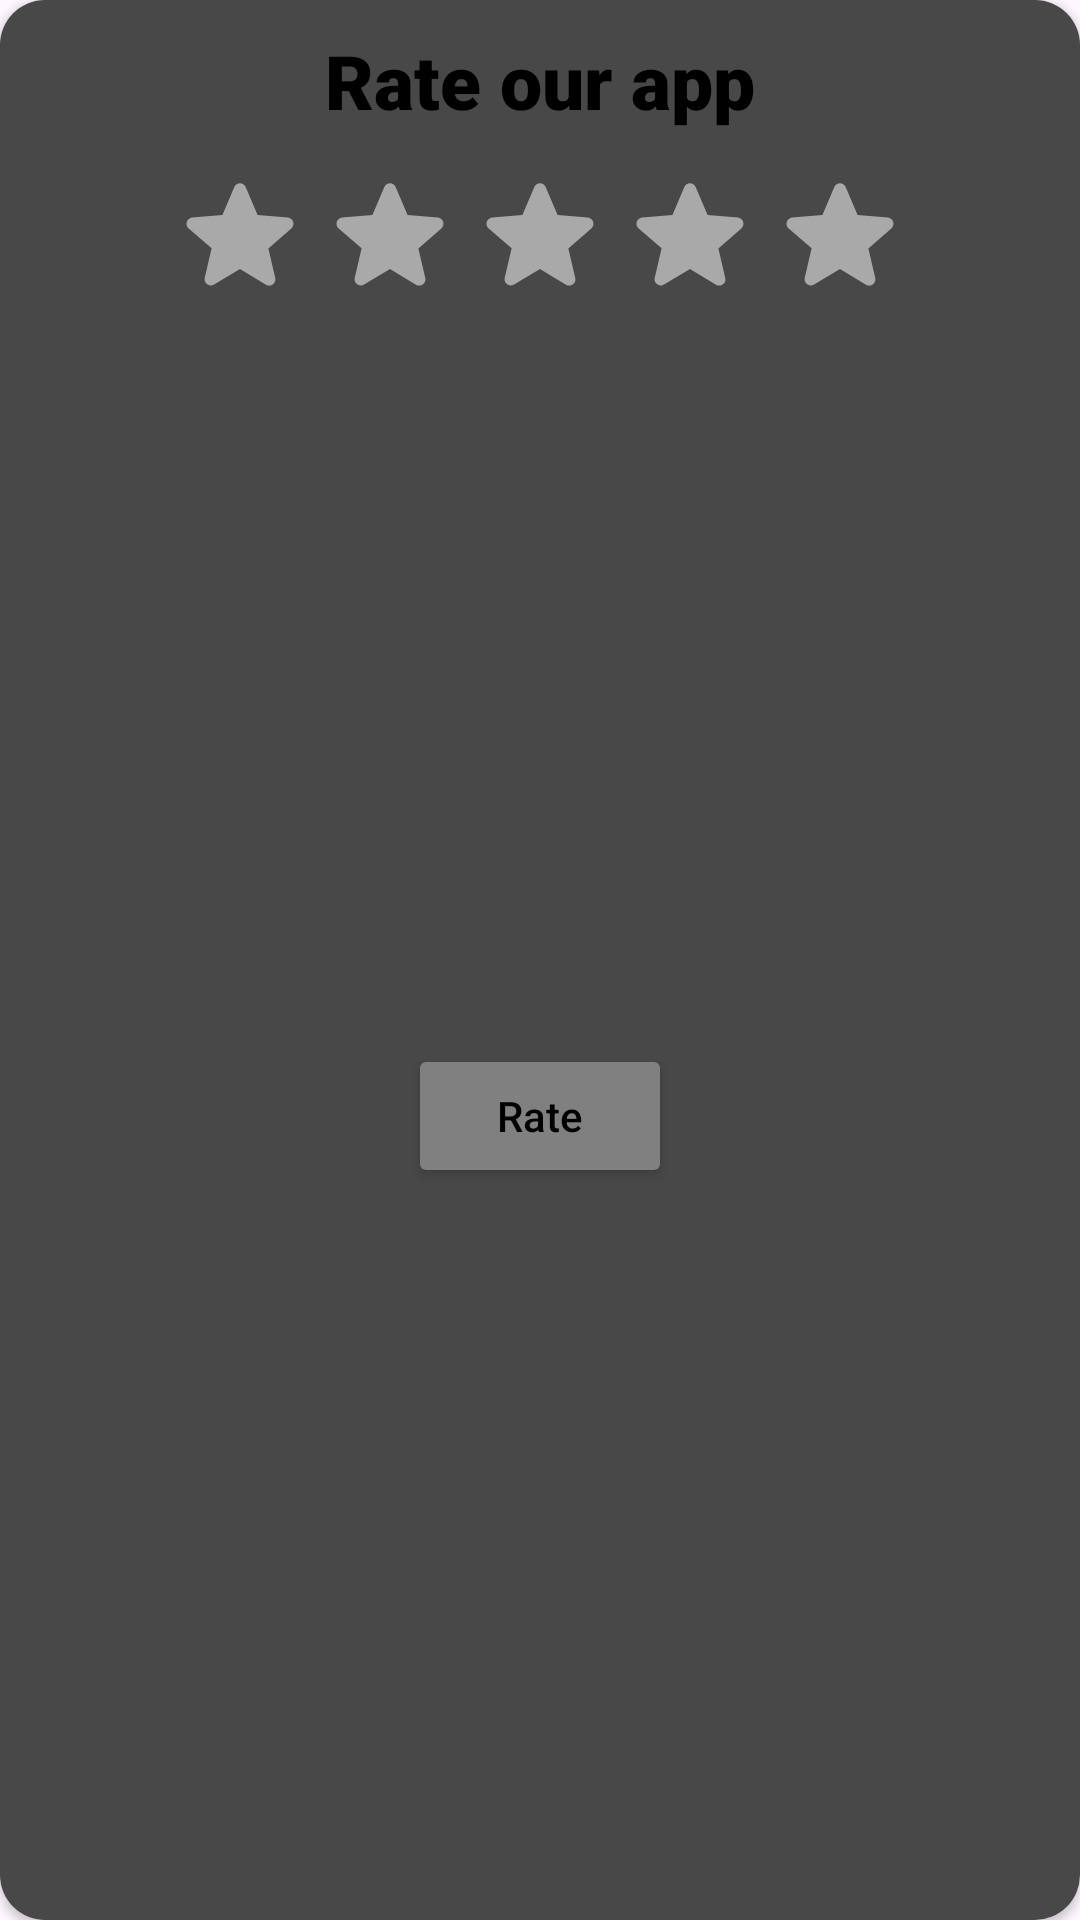

Where to tap for icons on this 1080×1920 app screen, as (x,y):
star: (240,234), (390,234), (540,234), (690,234), (840,234)
